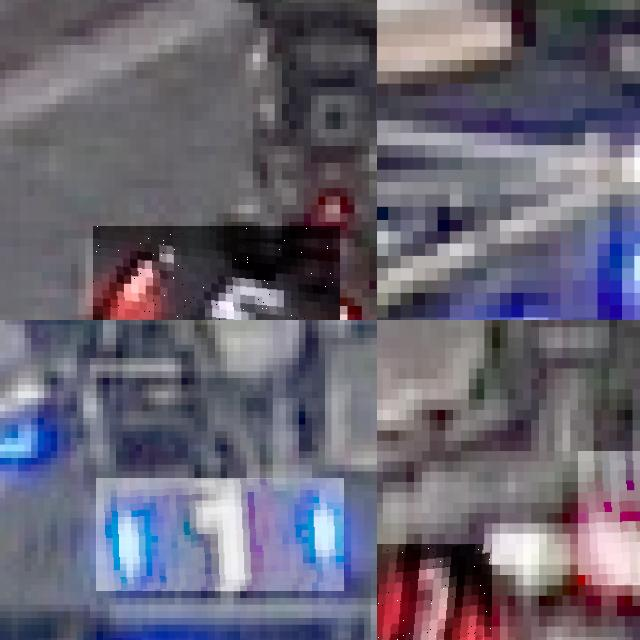B1: (96, 478, 344, 591)
R3: (377, 544, 492, 640), (578, 451, 640, 585)
R5: (92, 226, 340, 320)
